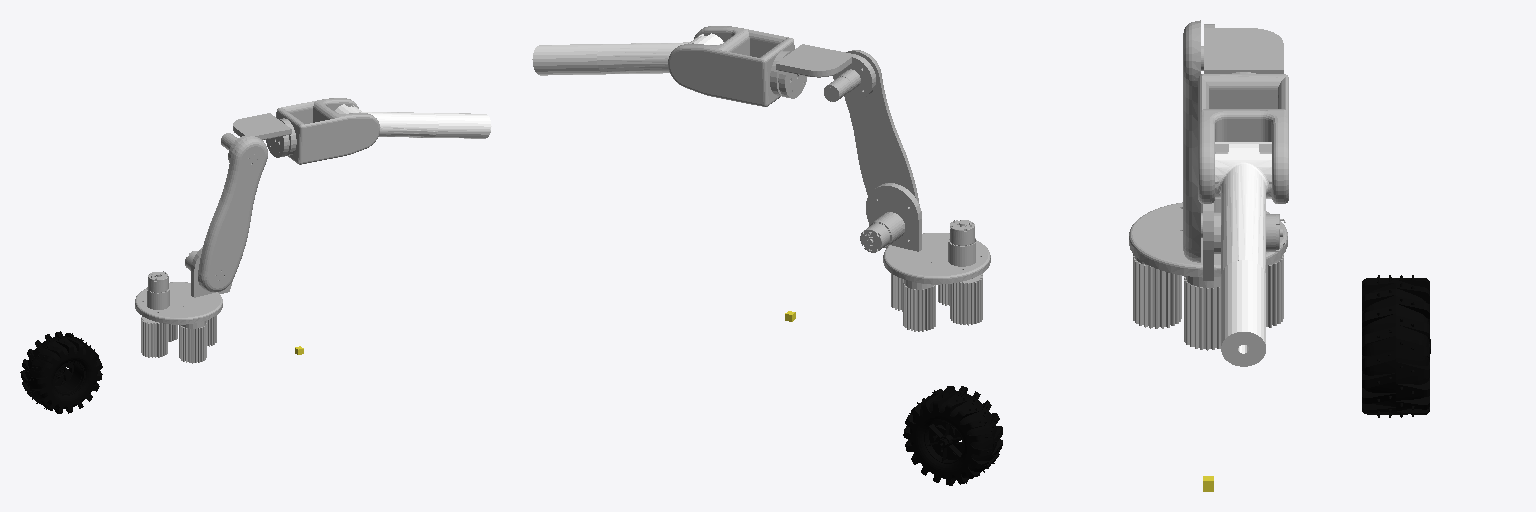
URDF robot description (robot):
<?xml version="1.0" encoding="utf-8" ?>
<!-- This URDF was automatically created by SolidWorks to URDF Exporter! Originally created by [author] ([email redacted]) 
     Commit Version: 1.5.1-0-g916b5db  Build Version: 1.5.7152.31018
     For more information, please see http://wiki.ros.org/sw_urdf_exporter -->
<robot name="robot">
    <link name="map">
    </link>
    <link name="optical">
    </link>
    <link name="base_link_Chasis">
        <inertial>
        <origin
            xyz="-0.0176250593499407 0.000487296918118385 0.0603462602324048"
            rpy="0 0 0" />
        <mass
            value="5.1498884920758" />
        <inertia
            ixx="0.0269958762265313"
            ixy="1.6509880552203E-05"
            ixz="-6.87240827549635E-07"
            iyy="0.0269179615683537"
            iyz="5.19119383098109E-08"
            izz="0.0513021127607407" />
        </inertial>

        <visual>
            <origin xyz="0 0 0" rpy="0 0 0" />
            <geometry>
                <mesh filename="package://Ensamble_URDF_2ndT/meshes/base_link_Chasis.STL" />
            </geometry>
            <material name="">
                <color rgba="0.752941176470588 0.752941176470588 0.752941176470588 1" />
            </material>
        </visual>
        <collision>
            <origin xyz="0 0 0" rpy="0 0 0" />
            <geometry>
                <mesh filename="package://Ensamble_URDF_2ndT/meshes/base_link_Chasis.STL" />
            </geometry>
        </collision>
    </link>
    <link name="rear_right_wheel">
        
        <inertial>
        <origin
            xyz="5.67991412472879E-07 -2.82678237514822E-06 -0.0308169422322422"
            rpy="0 0 0" />
        <mass
            value="0.622419475189312" />
        <inertia
            ixx="0.00062490705708195"
            ixy="3.27878592513705E-09"
            ixz="-4.02329981568964E-11"
            iyy="0.000624902314874054"
            iyz="-5.1108057156914E-09"
            izz="0.00114905854450842" />
        </inertial>
        <visual>
            <origin xyz="0 0 0" rpy="0 0 0" />
            <geometry>
                <mesh filename="package://Ensamble_URDF_2ndT/meshes/Link_1_1_wheel.STL" />
            </geometry>
            <material name="">
                <color rgba="0.0752941176470588 0.0752941176470588 0.0752941176470588 1" />
            </material>
        </visual>
        <collision>
            <origin xyz="0 0 0" rpy="0 0 0" />
            <geometry>
                <mesh filename="package://Ensamble_URDF_2ndT/meshes/Link_1_1_wheel.STL" />
            </geometry>
        </collision>
    </link>
    <joint name="dummy_joint" type="fixed">
        <parent link="map" />
        <child link="base_link_Chasis" />
    </joint>
  <joint
    name="joint_rear_right"
    type="continuous">
    <origin
      xyz="-0.12 -0.19478 0.0195"
      rpy="1.5708 0 0" />
    <parent
      link="base_link_Chasis" />
    <child
      link="rear_right_wheel" />
    <axis
      xyz="0 0 -1" />
    <!--<limit effort="10000" velocity="1000"/>-->
    <joint_properties damping="0.7"/>
  </joint>
    <link name="rear_left_wheel">
        
        <inertial>
        <origin
            xyz="2.7380927147963E-06 -9.03416358916109E-07 -0.0321210915173869"
            rpy="0 0 0" />
        <mass
            value="0.622419475189309" />
        <inertia
            ixx="0.00062490065579211"
            ixy="3.60794637909731E-10"
            ixz="4.42299708576457E-09"
            iyy="0.000624908716163889"
            iyz="-2.5610643382685E-09"
            izz="0.00114905854450842" />
        </inertial>

        <visual>
            <origin xyz="0 0 0" rpy="0 0 0" />
            <geometry>
                <mesh filename="package://Ensamble_URDF_2ndT/meshes/Link_1_2_wheel.STL" />
            </geometry>
            <material name="">
                <color rgba="0.0752941176470588 0.0752941176470588 0.0752941176470588 1" />
            </material>
        </visual>
        <collision>
            <origin xyz="0 0 0" rpy="0 0 0" />
            <geometry>
                <mesh filename="package://Ensamble_URDF_2ndT/meshes/Link_1_2_wheel.STL" />
            </geometry>
        </collision>
    </link>
  <joint
    name="joint_rear_left"
    type="continuous">
    <origin
      xyz="-0.12 0.19608 0.0195"
      rpy="-1.5708 0 0" />
    <parent
      link="base_link_Chasis" />
    <child
      link="rear_left_wheel" />
    <axis
      xyz="0 0 1" />
    <!--<limit effort="10000" velocity="1000"/>-->
    <joint_properties damping="0.7"/>
  </joint>
    <link name="front_right_wheel">
        
        <inertial>
        <origin
            xyz="2.45343850319157E-06 -1.51457992347837E-06 -0.0308169422322417"
            rpy="0 0 0" />
        <mass
            value="0.622419475189309" />
        <inertia
            ixx="0.000624901253478588"
            ixy="2.14254962065621E-09"
            ixz="3.7073277047334E-09"
            iyy="0.00062490811847741"
            iyz="-3.51819202576334E-09"
            izz="0.00114905854450842" />
        </inertial>

        <visual>
            <origin xyz="0 0 0" rpy="0 0 0" />
            <geometry>
                <mesh filename="package://Ensamble_URDF_2ndT/meshes/Link_1_3_wheel.STL" />
            </geometry>
            <material name="">
                <color rgba="0.0752941176470588 0.0752941176470588 0.0752941176470588 1" />
            </material>
        </visual>
        <collision>
            <origin xyz="0 0 0" rpy="0 0 0" />
            <geometry>
                <mesh filename="package://Ensamble_URDF_2ndT/meshes/Link_1_3_wheel.STL" />
            </geometry>
        </collision>
    </link>
  <joint
    name="joint_front_right"
    type="continuous">
    <origin
      xyz="0.08 -0.19478 0.0195"
      rpy="1.5708 0 0" />
    <parent
      link="base_link_Chasis" />
    <child
      link="front_right_wheel" />
    <axis
      xyz="0 0 -1" />
    <!--<limit effort="10000" velocity="1000"/>-->
    <joint_properties damping="0.7"/>
  </joint>
    <link name="front_left_wheel">
        
        <inertial>
        <origin
            xyz="6.88887376976144E-07 2.79977624487171E-06 -0.0321210915173852"
            rpy="0 0 0" />
        <mass
            value="0.622419475189309" />
        <inertia
            ixx="0.000624908723580364"
            ixy="2.65213544825715E-10"
            ixz="2.21122175396398E-09"
            iyy="0.000624900648375636"
            iyz="4.60786850214148E-09"
            izz="0.00114905854450842" />
        </inertial>

        <visual>
            <origin xyz="0 0 0" rpy="0 0 0" />
            <geometry>
                <mesh filename="package://Ensamble_URDF_2ndT/meshes/Link_1_4_wheel.STL" />
            </geometry>
            <material name="">
                <color rgba="0.0752941176470588 0.0752941176470588 0.0752941176470588 1" />
            </material>
        </visual>
        <collision>
            <origin xyz="0 0 0" rpy="0 0 0" />
            <geometry>
                <mesh filename="package://Ensamble_URDF_2ndT/meshes/Link_1_4_wheel.STL" />
            </geometry>
        </collision>
    </link>
  <joint
    name="joint_front_left"
    type="continuous">
    <origin
      xyz="0.08 0.19608 0.0195"
      rpy="-1.5708 0 0" />
    <parent
      link="base_link_Chasis" />
    <child
      link="front_left_wheel" />
    <axis
      xyz="0 0 1" />
    <!--<limit effort="10000" velocity="1000"/>-->
    <joint_properties damping="0.7"/>
  </joint>
    <link name="Link_2_Arm">
        
        <inertial>
            <origin xyz="0.00748196672374324 0.00102802561169185 0.0638410985827166" rpy="0 0 0" />
            <mass value="0.628890750175801" />
            <inertia ixx="0.000520538685244632" ixy="-2.12235972486672E-06" ixz="-0.000139357039232038" iyy="0.000728419435655154" iyz="-1.13027487326274E-06" izz="0.000770486257960158" />
        </inertial>

        <visual>
            <origin xyz="0 0 0" rpy="0 0 0" />
            <geometry>
                <mesh filename="package://Ensamble_URDF_2ndT/meshes/Link_2_Arm.STL" />
            </geometry>
            <material name="">
                <color rgba="0.752941176470588 0.752941176470588 0.752941176470588 1" />
            </material>
        </visual>
        <collision>
            <origin xyz="0 0 0" rpy="0 0 0" />
            <geometry>
                <mesh filename="package://Ensamble_URDF_2ndT/meshes/Link_2_Arm.STL" />
            </geometry>
        </collision>
    </link>
    <joint name="joint_2_Arm" type="revolute">
        <origin xyz="0 0 0.098503" rpy="0 0 0" />
        <parent link="base_link_Chasis" />
        <child link="Link_2_Arm" />
        <axis xyz="0 0 1" />
        <dynamics damping="0.1" friction="0.0" />
        <limit lower="-3.14" upper="3.14" effort="100" velocity="100" />
    </joint>
    <link name="Link_3_Arm">
        
        <inertial>
            <origin xyz="0.0296690817173591 0.0937475303009118 0.0154851256686125" rpy="0 0 0" />
            <mass value="0.253359108687758" />
            <inertia ixx="0.00110683077017184" ixy="-0.000324885669810858" ixz="1.02859280609467E-07" iyy="0.000181665186280893" iyz="3.25419397857424E-07" izz="0.0012795061824751" />
        </inertial>

        <visual>
            <origin xyz="0 0 0" rpy="0 0 0" />
            <geometry>
                <mesh filename="package://Ensamble_URDF_2ndT/meshes/Link_3_Arm.STL" />
            </geometry>
            <material name="">
                <color rgba="0.752941176470588 0.752941176470588 0.752941176470588 1" />
            </material>
        </visual>
        <collision>
            <origin xyz="0 0 0" rpy="0 0 0" />
            <geometry>
                <mesh filename="package://Ensamble_URDF_2ndT/meshes/Link_3_Arm.STL" />
            </geometry>
        </collision>
    </link>
    <joint name="joint_3_Arm" type="revolute">
        <origin xyz="0.063383 0.0021739 0.12369" rpy="1.5708 0 0" />
        <parent link="Link_2_Arm" />
        <child link="Link_3_Arm" />
        <axis xyz="0.034278 0 0.99941" />
        <dynamics damping="0.1" friction="0.0" />
        <limit lower="-0.6" upper="1.4" effort="100" velocity="100" />
    </joint>
    <link name="Link_4_Arm">
        
        <inertial>
            <origin xyz="0.12214 -0.0031288 -0.025262" rpy="0 0 0" />
            <mass value="0.5315" />
            <inertia ixx="0.00053038" ixy="3.203E-05" ixz="3.3052E-05" iyy="0.0012792" iyz="8.2845E-06" izz="0.0010824" />
        </inertial>

        <visual>
            <origin xyz="0 0 0" rpy="0 0 0" />
            <geometry>
                <mesh filename="package://Ensamble_URDF_2ndT/meshes/Link_4_Arm.STL" />
            </geometry>
            <material name="">
                <color rgba="0.75294 0.75294 0.75294 1" />
            </material>
        </visual>
        <collision>
            <origin xyz="0 0 0" rpy="0 0 0" />
            <geometry>
                <mesh filename="package://Ensamble_URDF_2ndT/meshes/Link_4_Arm.STL" />
            </geometry>
        </collision>
    </link>
    <joint name="joint_4_Arm" type="revolute">
        <origin xyz="0.060241 0.1907 -0.0020662" rpy="0 0 0" />
        <parent link="Link_3_Arm" />
        <child link="Link_4_Arm" />
        <axis xyz="-0.034278 0 -0.99941" />
        <dynamics damping="0.1" friction="0.0" />
        <limit lower="-1.57" upper="1.2" effort="100" velocity="100" />
    </joint>
    <link name="Link_5_Arm">
        
        <inertial>
            <origin xyz="0.10453 -0.026221 -0.022979" rpy="0 0 0" />
            <mass value="0.34582" />
            <inertia ixx="0.00011962" ixy="0.00014937" ixz="1.8439E-11" iyy="0.00069107" iyz="-7.1519E-10" izz="0.0007295" />
        </inertial>

        <visual>
            <origin xyz="0 0 0" rpy="0 0 0" />
            <geometry>
                <mesh filename="package://Ensamble_URDF_2ndT/meshes/Link_5_Arm.STL" />
            </geometry>
            <material name="">
                <color rgba="1 1 1 1" />
            </material>
        </visual>
        <collision>
            <origin xyz="0 0 0" rpy="0 0 0" />
            <geometry>
                <mesh filename="package://Ensamble_URDF_2ndT/meshes/Link_5_Arm.STL" />
            </geometry>
        </collision>
    </link>
    <joint name="joint_5_Arm" type="revolute">
        <origin xyz="0.21278 -0.0095961 -0.0037813" rpy="0 0 0" />
        <parent link="Link_4_Arm" />
        <child link="Link_5_Arm" />
        <axis xyz="-0.034278 0 -0.99941" />
        <dynamics damping="0.1" friction="0.01" />
        <limit lower="-2.8" upper="2.8" effort="100" velocity="100" />
    </joint>

  <link name="rgbd_cam">
    <inertial>
      <origin xyz="0.221 0.0 0.045" rpy="0.0 0.0 0.0"/>
      <mass value="0.1"/>
      <inertia ixx="0.0" ixy="0.0" ixz="0.0" iyy="0.0" iyz="0.0" izz="0.0"/>
    </inertial>
    <visual>
      <origin xyz="0.0 0.0 0.0" rpy="0.0 0.0 0.0"/>
      <geometry>
        <box size="0.01 0.01 0.01"/>
      </geometry>
    </visual>
  </link>

  <joint name="rgbd_link" type="fixed">
    <parent link="base_link_Chasis"/>
    <child link="rgbd_cam"/>
    <origin xyz="0.221 0.0 0.045" rpy="0.0 0.0 0.0"/>
  </joint>
  <joint name="optical_joint" type="fixed">
    <parent link="rgbd_cam"/>
    <child link="optical"/>
    <origin xyz="0.0 0.0 0.0" rpy="-1.5708 0.0 -1.5708"/>   
  </joint>
    

  <transmission name="transmission_rear_right">
    <type>transmission_interface/SimpleTransmission</type>
    <actuator name="motor_rear_right">
      <hardwareInterface>hardware_interface/EffortJointInterface</hardwareInterface>
      <mechanicalReduction>75</mechanicalReduction>
    </actuator>
    <joint name="joint_rear_right">
      <hardwareInterface>hardware_interface/VelocityJointInterface</hardwareInterface>
    </joint>
  </transmission>
  <transmission name="transmission_rear_left">
    <type>transmission_interface/SimpleTransmission</type>
    <actuator name="motor_rear_left">
      <hardwareInterface>hardware_interface/EffortJointInterface</hardwareInterface>
      <mechanicalReduction>75</mechanicalReduction>
    </actuator>
    <joint name="joint_rear_left">
      <hardwareInterface>hardware_interface/VelocityJointInterface</hardwareInterface>
    </joint>
  </transmission>
  <transmission name="transmission_front_right">
    <type>transmission_interface/SimpleTransmission</type>
    <actuator name="motor_front_right">
      <hardwareInterface>hardware_interface/EffortJointInterface</hardwareInterface>
      <mechanicalReduction>75</mechanicalReduction>
    </actuator>
    <joint name="joint_front_right">
      <hardwareInterface>hardware_interface/VelocityJointInterface</hardwareInterface>
    </joint>
  </transmission>
  <transmission name="transmission_front_left">
    <type>transmission_interface/SimpleTransmission</type>
    <actuator name="motor_front_left">
      <hardwareInterface>hardware_interface/EffortJointInterface</hardwareInterface>
      <mechanicalReduction>75</mechanicalReduction>
    </actuator>
    <joint name="joint_front_left">
      <hardwareInterface>hardware_interface/VelocityJointInterface</hardwareInterface>
    </joint>
  </transmission>
    <transmission name="trans_joint_2_Arm">
        <type>transmission_interface/SimpleTransmission</type>
        <joint name="joint_2_Arm">
            <hardwareInterface>hardware_interface/EffortJointInterface</hardwareInterface>
        </joint>
        <actuator name="joint_2_Arm_motor">
            <hardwareInterface>hardware_interface/EffortJointInterface</hardwareInterface>
            <mechanicalReduction>1</mechanicalReduction>
        </actuator>
    </transmission>
    <transmission name="trans_joint_3_Arm">
        <type>transmission_interface/SimpleTransmission</type>
        <joint name="joint_3_Arm">
            <hardwareInterface>hardware_interface/EffortJointInterface</hardwareInterface>
        </joint>
        <actuator name="joint_3_Arm_motor">
            <hardwareInterface>hardware_interface/EffortJointInterface</hardwareInterface>
            <mechanicalReduction>1</mechanicalReduction>
        </actuator>
    </transmission>
    <transmission name="trans_joint_4_Arm">
        <type>transmission_interface/SimpleTransmission</type>
        <joint name="joint_4_Arm">
            <hardwareInterface>hardware_interface/EffortJointInterface</hardwareInterface>
        </joint>
        <actuator name="joint_4_Arm_motor">
            <hardwareInterface>hardware_interface/EffortJointInterface</hardwareInterface>
            <mechanicalReduction>1</mechanicalReduction>
        </actuator>
    </transmission>
    <transmission name="trans_joint_5_Arm">
        <type>transmission_interface/SimpleTransmission</type>
        <joint name="joint_5_Arm">
            <hardwareInterface>hardware_interface/EffortJointInterface</hardwareInterface>
        </joint>
        <actuator name="joint_5_Arm_motor">
            <hardwareInterface>hardware_interface/EffortJointInterface</hardwareInterface>
            <mechanicalReduction>1</mechanicalReduction>
        </actuator>
    </transmission>

  <gazebo reference="base_link_Chasis">
    <material>Gazebo/Orange</material>
  </gazebo>
  <gazebo reference="rear_right_wheel">
    <material>Gazebo/Black</material>
  </gazebo>
  <gazebo reference="rear_left_wheel">
    <material>Gazebo/Black</material>
  </gazebo>
  <gazebo reference="front_right_wheel">
    <material>Gazebo/Black</material>
  </gazebo>
  <gazebo reference="front_left_wheel">
    <material>Gazebo/Black</material>
  </gazebo>
  <gazebo reference="rgbd_cam">
    <material>Gazebo/Red</material>
  </gazebo>

  <gazebo>
    <plugin name="gazebo_ros_control" filename="libgazebo_ros_control.so">
      <robotNamespace>/robot</robotNamespace>
      <robotSimType>gazebo_ros_control/DefaultRobotHWSim</robotSimType>
    </plugin>
  </gazebo>

  <gazebo reference="rgbd_cam">
    <sensor type="depth" name="camera">  
      <pose>0.0 0.0 0.0 1.0 0.0 0.0</pose>     
      <always_on>true</always_on>
      <visualize>true</visualize>             
      <camera>
          <horizontal_fov>1.047</horizontal_fov>
          <image>
              <width>640</width>
              <height>480</height>
              <format>R8G8B8</format>
          </image>
          <depth_camera>
          </depth_camera>
          <clip>
              <near>0.1</near>
              <far>3</far>
          </clip>
      </camera>
      <plugin name="camera_controller" filename="libgazebo_ros_openni_kinect.so">
          <baseline>0.2</baseline>
          <alwaysOn>true</alwaysOn>
              <updateRate>10.0</updateRate>
              <cameraName>camera</cameraName>
              <frameName>optical</frameName>                   
          <imageTopicName>rgb/image_raw</imageTopicName>
          <depthImageTopicName>depth/image_raw</depthImageTopicName>
          <pointCloudTopicName>depth/points</pointCloudTopicName>
          <cameraInfoTopicName>rgb/camera_info</cameraInfoTopicName>              
          <depthImageCameraInfoTopicName>depth/camera_info</depthImageCameraInfoTopicName>            
          <pointCloudCutoff>0.4</pointCloudCutoff>                
              <hackBaseline>0.07</hackBaseline>
              <distortionK1>0.0</distortionK1>
              <distortionK2>0.0</distortionK2>
              <distortionK3>0.0</distortionK3>
              <distortionT1>0.0</distortionT1>
              <distortionT2>0.0</distortionT2>
          <CxPrime>0.0</CxPrime>
          <Cx>0.0</Cx>
          <Cy>0.0</Cy>
          <Or>0.0</Or>
          <Op>1.5708</Op>
          <Oy>0.0</Oy>
          <focalLength>0.0</focalLength>
          </plugin>
    </sensor>
  </gazebo>
</robot>

--- Facts derived from the render (not from the file) ---
Views: 3 orthographic renders of the robot side by side, from view 1: azimuth 30°, elevation 25°; view 2: azimuth 150°, elevation 25°; view 3: azimuth 270°, elevation 25°.
Model robot with 12 links and 11 joints (4 revolute, 4 continuous, 3 fixed), rooted at map, posed every joint at zero.
Links seen in each view (by area): view 1: Link_4_Arm, Link_2_Arm, Link_3_Arm, rear_left_wheel, Link_5_Arm; view 2: Link_2_Arm, Link_4_Arm, rear_left_wheel, Link_3_Arm, Link_5_Arm; view 3: Link_2_Arm, Link_4_Arm, Link_5_Arm, rear_left_wheel, Link_3_Arm.
Boxes of the visible links, x1,y1,x2,y2 form: Link_4_Arm: (221,98,379,164); Link_2_Arm: (135,247,232,363); Link_3_Arm: (198,136,267,291); rear_left_wheel: (20,331,102,413); Link_5_Arm: (334,104,491,138); Link_2_Arm: (860,183,990,331); Link_4_Arm: (668,26,875,106); rear_left_wheel: (903,386,1002,485); Link_3_Arm: (844,50,919,204); Link_5_Arm: (532,33,723,75); Link_2_Arm: (1129,199,1287,350); Link_4_Arm: (1198,24,1288,203); Link_5_Arm: (1215,142,1271,366); rear_left_wheel: (1362,275,1430,417); Link_3_Arm: (1183,20,1203,262).
Bounding box of the posed robot: 0.767 × 0.2658 × 0.4895 m (x, y, z).
5 mesh visuals loaded from 9 distinct referenced files (5 binary STL); not drawn: 4 (reference not matched to a file when rendering).